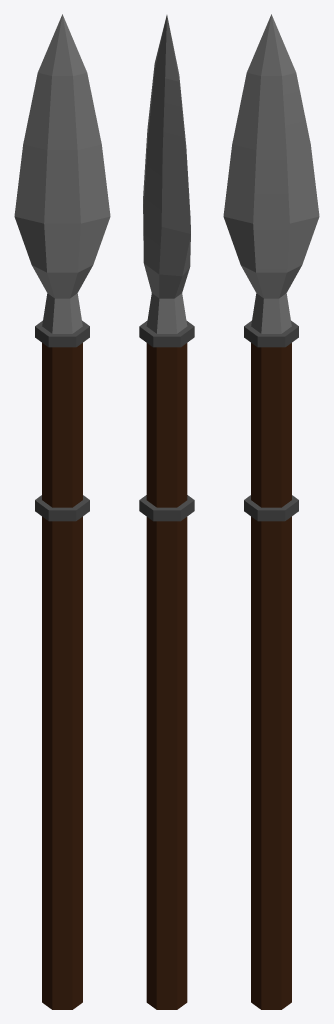
File: Trap5.fbx
3 renders of one model, left to right at view 1: azimuth 90°, elevation 25°; view 2: azimuth 210°, elevation 25°; view 3: azimuth 270°, elevation 25°, orthographic.
Parts seen in each view (by area): view 1: SpearD; view 2: SpearD; view 3: SpearD.
Boxes of the visible parts, <box> form: SpearD: <box>14,14,110,1009</box>; SpearD: <box>139,15,194,1009</box>; SpearD: <box>223,14,319,1009</box>.
Bounding box in the file's own units: 11.75 × 268 × 23.57.
